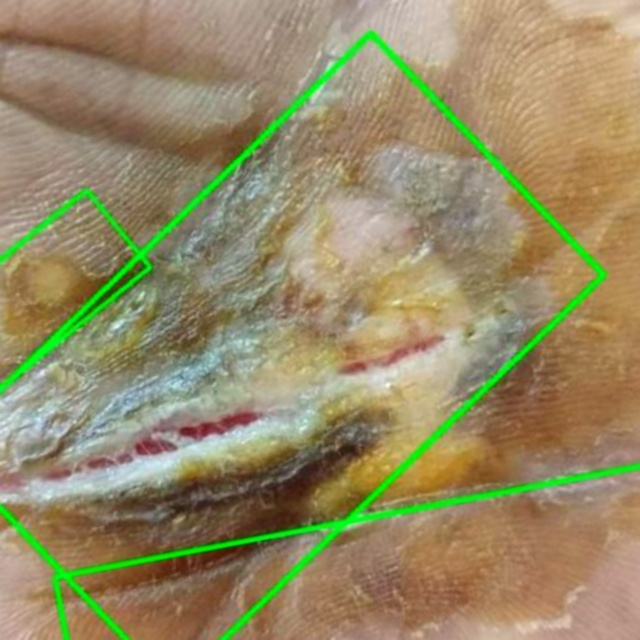Eczema: (0, 33, 603, 639), (0, 190, 150, 388)
